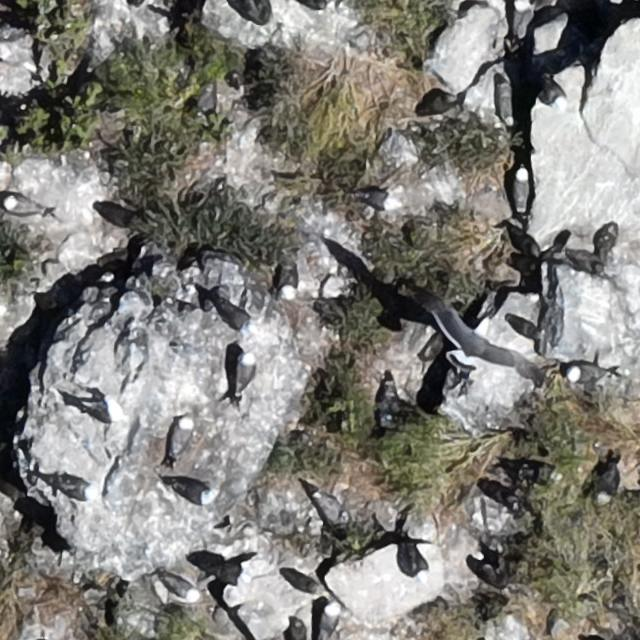F: (427, 300, 530, 379)
umineko: (161, 413, 193, 465), (156, 569, 202, 603), (50, 474, 96, 501), (174, 482, 217, 506), (596, 465, 618, 507), (83, 396, 123, 419), (314, 494, 340, 521), (4, 197, 38, 216), (511, 1, 529, 35), (239, 350, 256, 385), (512, 171, 529, 205), (569, 365, 600, 383), (319, 606, 337, 636), (362, 191, 391, 208), (279, 268, 294, 298)
